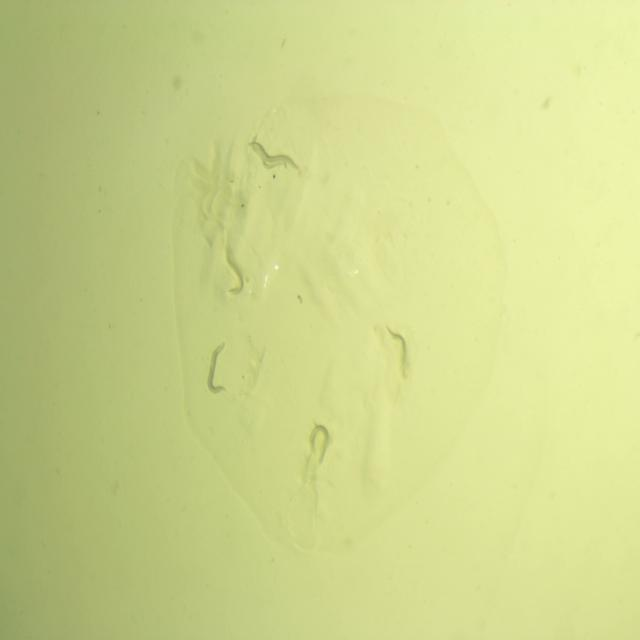worm: (247, 138, 303, 173), (203, 338, 233, 399), (384, 320, 412, 380), (250, 132, 290, 173), (219, 246, 248, 299), (306, 420, 332, 467)
